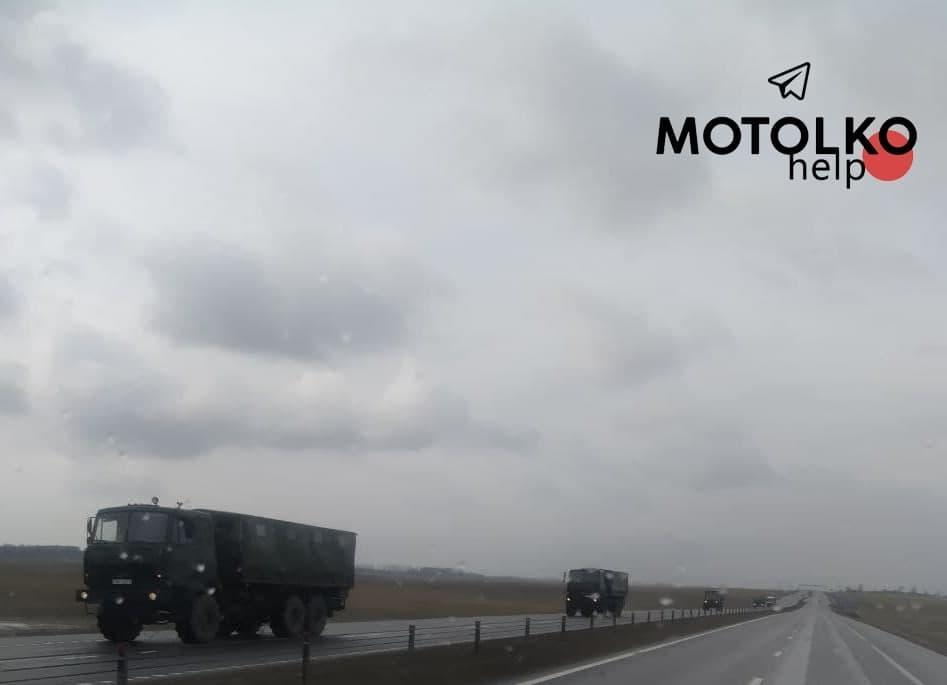truck: (77, 500, 364, 656), (560, 564, 626, 626), (698, 586, 730, 614)
